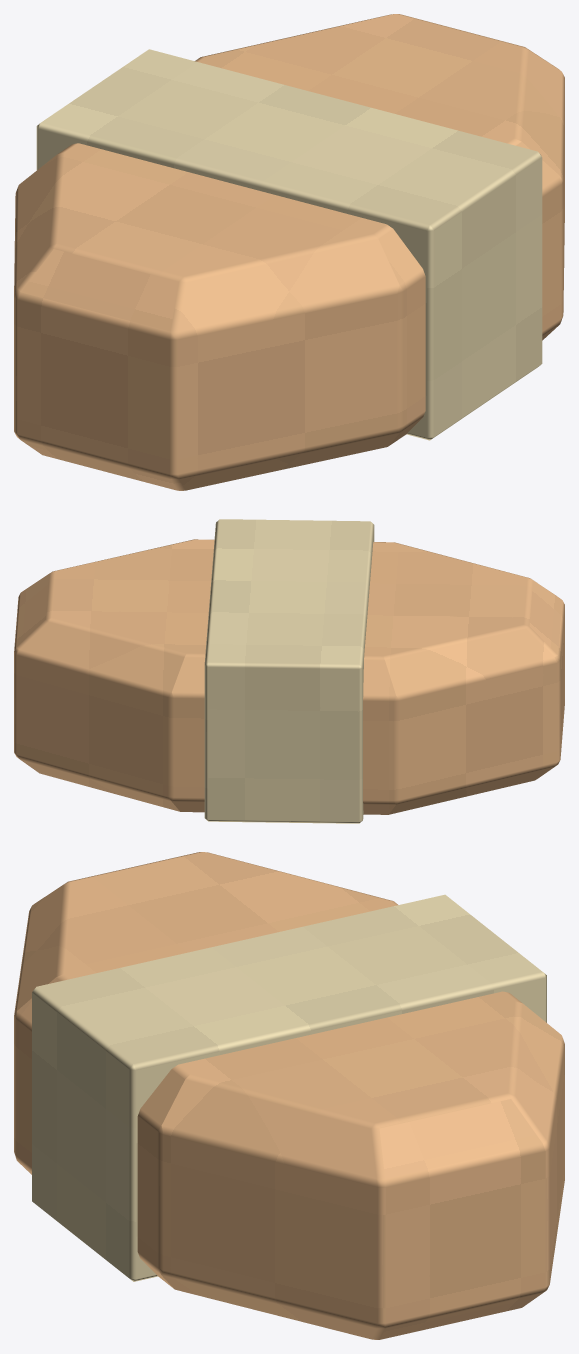
Rendered from WrappedSoap.glb.
3 views of the same model, one above another, from view 1: azimuth 30°, elevation 25°; view 2: azimuth 150°, elevation 25°; view 3: azimuth 270°, elevation 25° (orthographic). The views are drawn at different scales.
Parts seen in each view (by area): view 1: WrappedSoap.Soap-cake, WrappedSoap.Paper-wrap; view 2: WrappedSoap.Soap-cake, WrappedSoap.Paper-wrap; view 3: WrappedSoap.Soap-cake, WrappedSoap.Paper-wrap.
Boxes of the visible parts, x1,y1,x2,y2 form: WrappedSoap.Soap-cake: (14, 14, 564, 490); WrappedSoap.Paper-wrap: (36, 49, 542, 440); WrappedSoap.Soap-cake: (14, 539, 564, 814); WrappedSoap.Paper-wrap: (204, 519, 374, 823); WrappedSoap.Soap-cake: (14, 852, 564, 1339); WrappedSoap.Paper-wrap: (32, 894, 546, 1281).
Size of the model in its own units: 0.2535 by 0.0824 by 0.1873.
2 materials, 2 textured.
